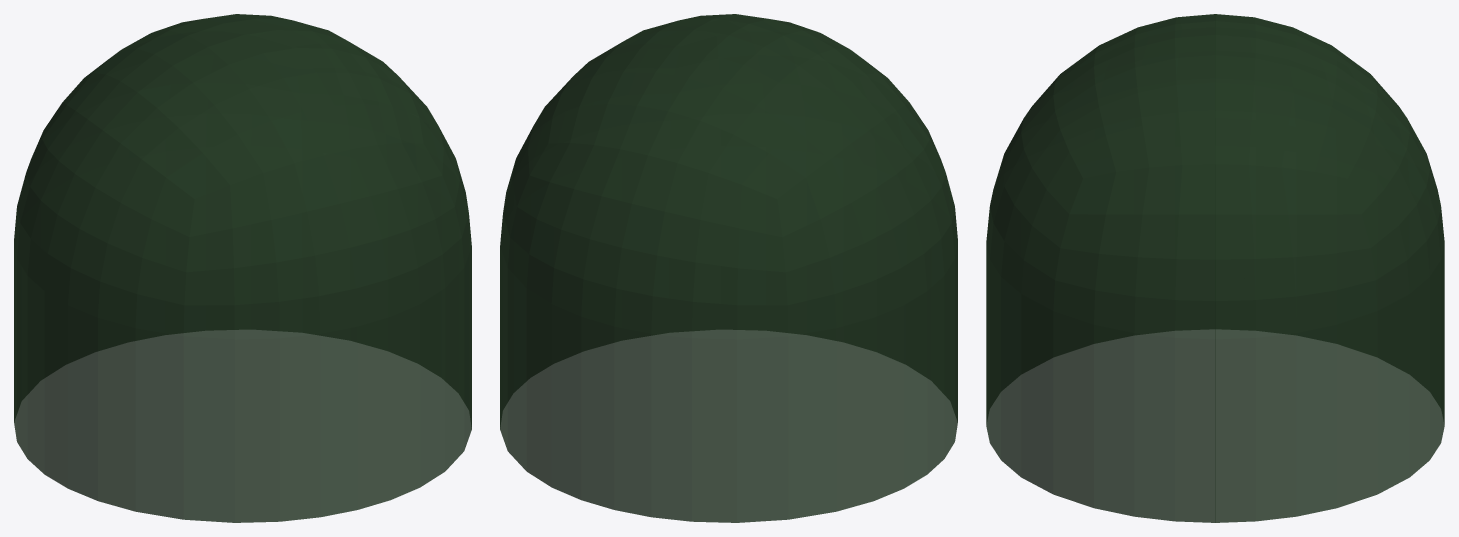
The model's file is green_bulb._transforms_2.obj.
3 renders of one model, left to right at view 1: azimuth 30°, elevation 25°; view 2: azimuth 150°, elevation 25°; view 3: azimuth 270°, elevation 25°, orthographic.
Parts seen in each view (by area): view 1: Green_Light_Bulb; view 2: Green_Light_Bulb; view 3: Green_Light_Bulb.
Boxes of the visible parts, <box> form: Green_Light_Bulb: <box>14,14,471,522</box>; Green_Light_Bulb: <box>500,14,957,522</box>; Green_Light_Bulb: <box>986,14,1444,522</box>.
Size of the model in its own units: 0.1269 by 0.1195 by 0.1269.
